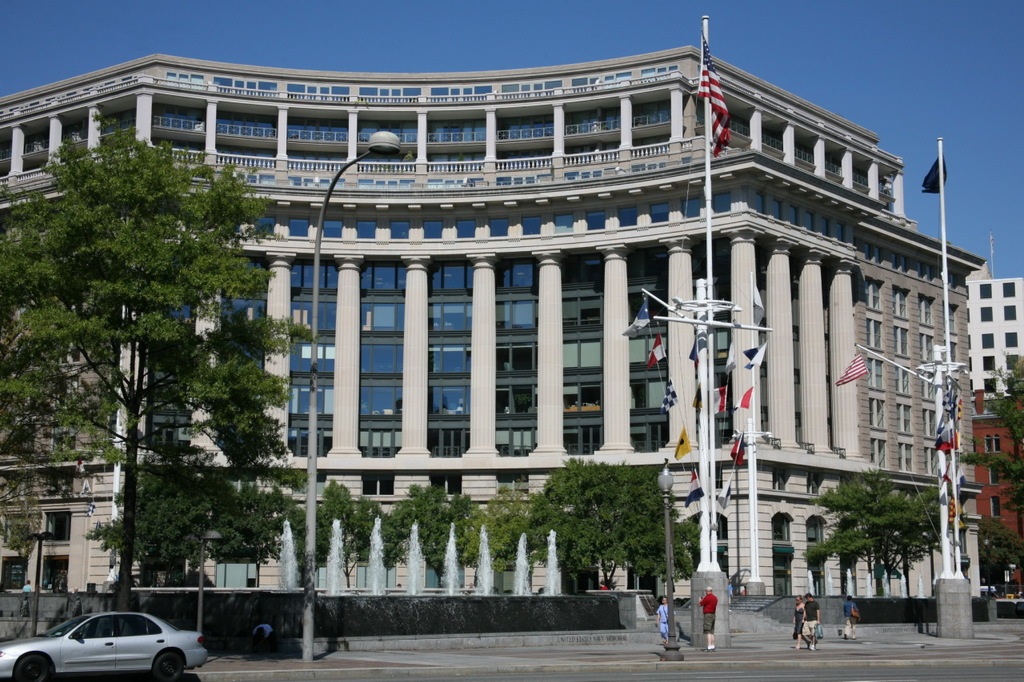Car: (26, 616, 208, 678)
